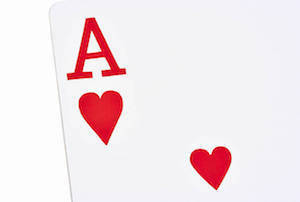AceOfHearts: (39, 2, 243, 191)
